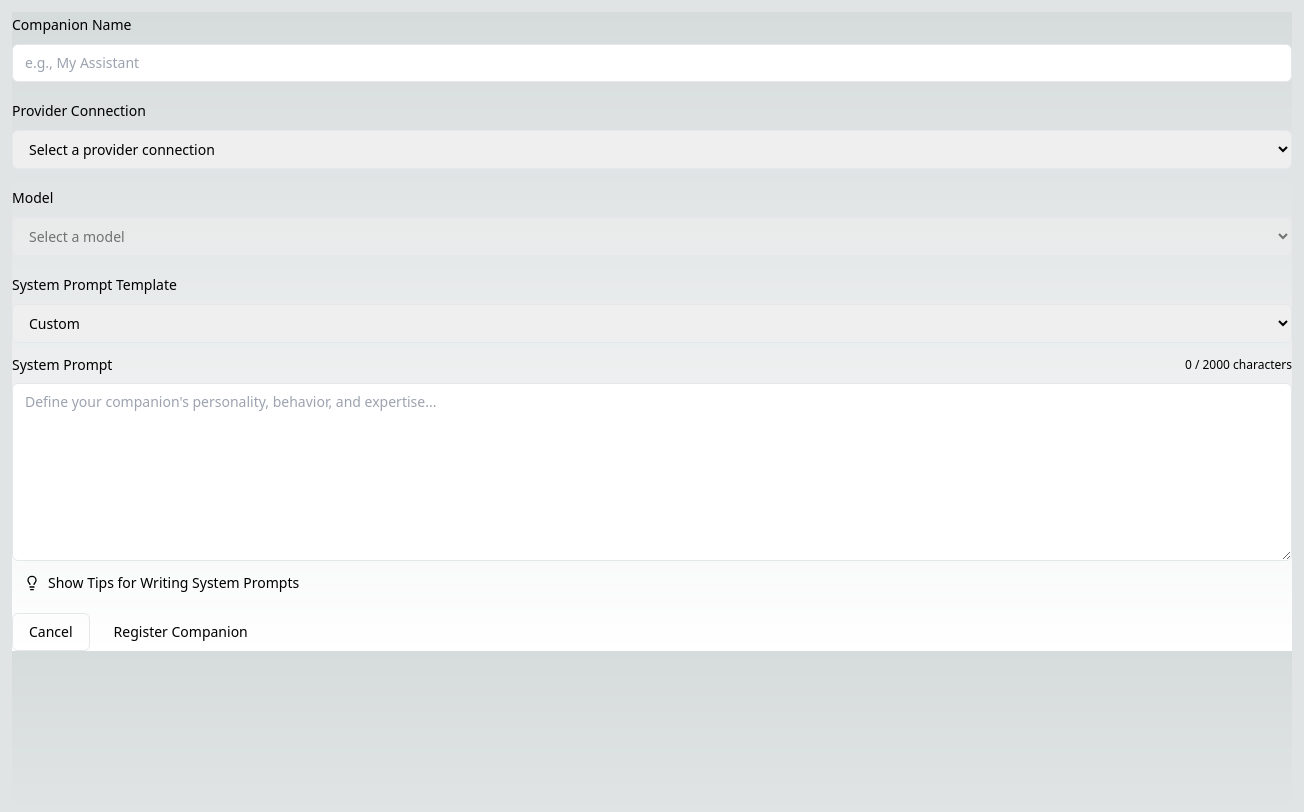
Companion Registration Integration › CompanionRegistrationForm › should update model options when connection changes
The width and height of the screenshot is (1304, 812).
Expected: the dropdown labelled "Model" is disabled, [12,217,1292,256]
Note: Select a connection
Select "OPENAI (openai-account)" in the dropdown labelled "Provider Connection" at (652, 150), box [12,130,1292,169]
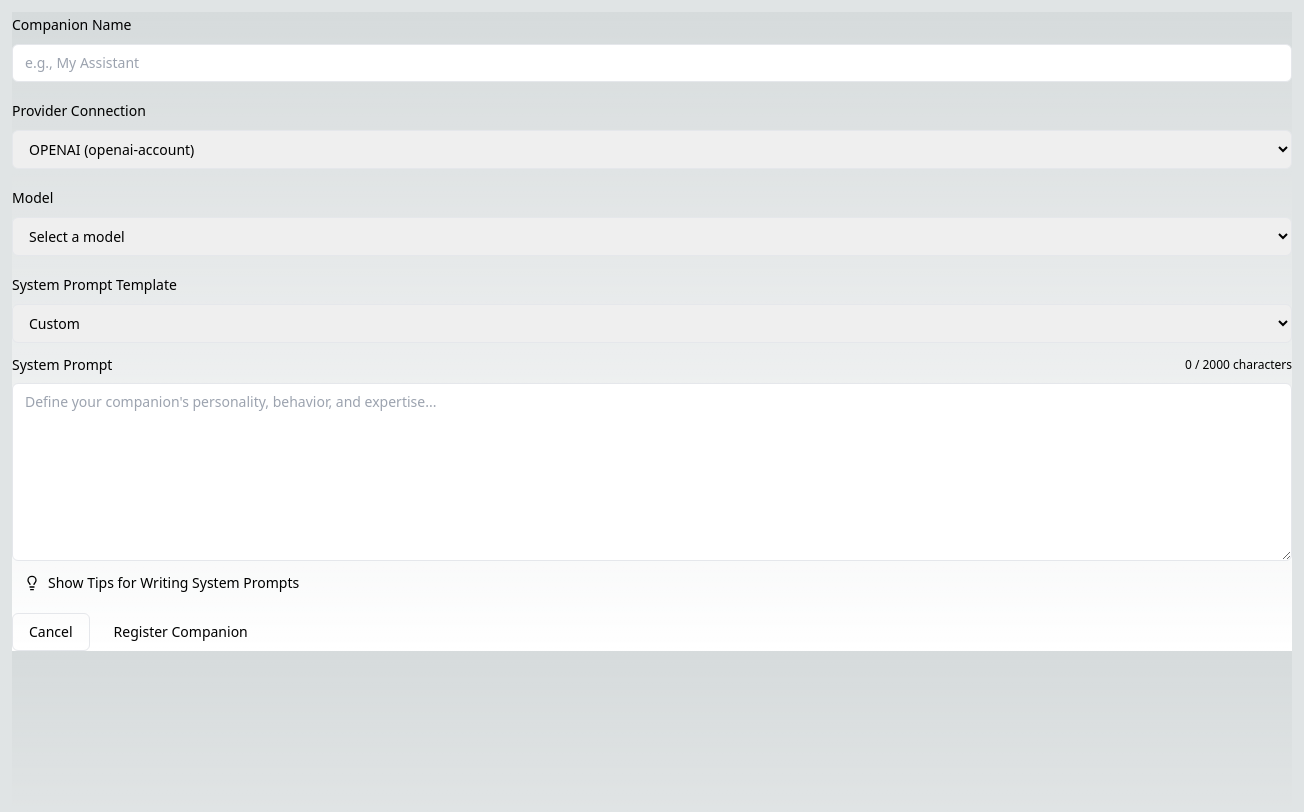
Now the dropdown labelled "Model" is enabled, box [12,217,1292,256]
